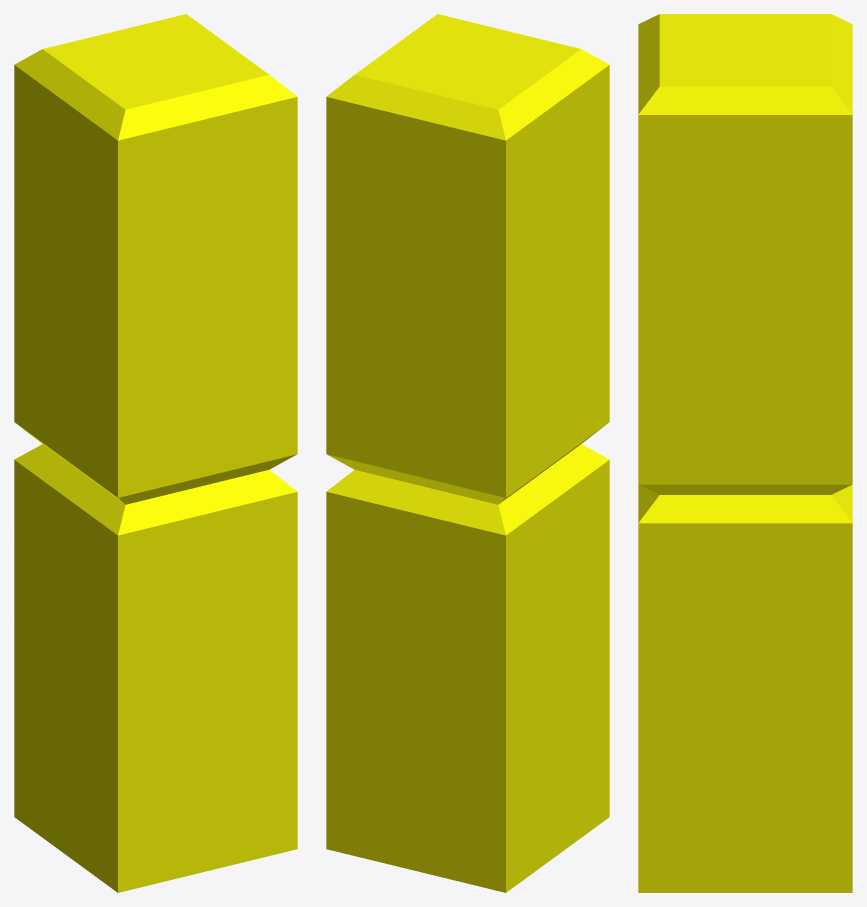
Rendered from kaykit-restaurant-pillar-b.glb.
3 views of the same model, side by side, from view 1: azimuth 30°, elevation 25°; view 2: azimuth 150°, elevation 25°; view 3: azimuth 270°, elevation 25° (orthographic). The views are drawn at different scales.
Parts seen in each view (by area): view 1: pillar_B; view 2: pillar_B; view 3: pillar_B.
Boxes of the visible parts, x1,y1,x2,y2 form: pillar_B: (14, 14, 297, 892); pillar_B: (326, 14, 609, 892); pillar_B: (638, 14, 852, 892).
Bounding box in the file's own units: 1 × 4.1 × 1.
